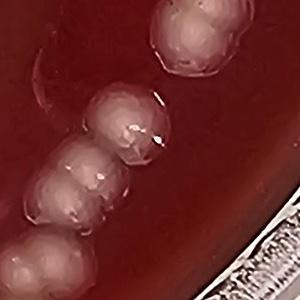colony: (81, 78, 174, 168), (142, 0, 242, 79), (40, 130, 138, 210), (15, 163, 112, 240), (8, 225, 105, 300), (164, 0, 261, 44), (0, 237, 57, 300)
